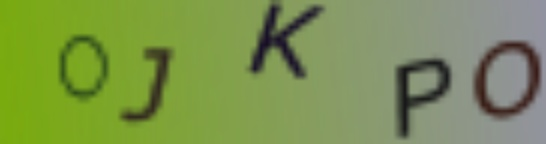J: (114, 43, 180, 126)
K: (242, 1, 334, 81)
O: (467, 36, 546, 122), (52, 33, 112, 104)
P: (390, 54, 455, 144)
